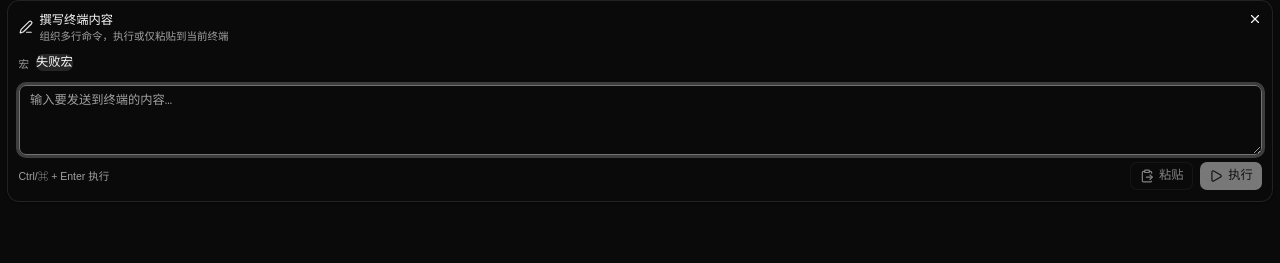
Test: TerminalComposePanel › reports macro execution failures without recording the command
Click the button with aria-label "执行宏 失败宏": x=54, y=62 [36, 54, 73, 71]
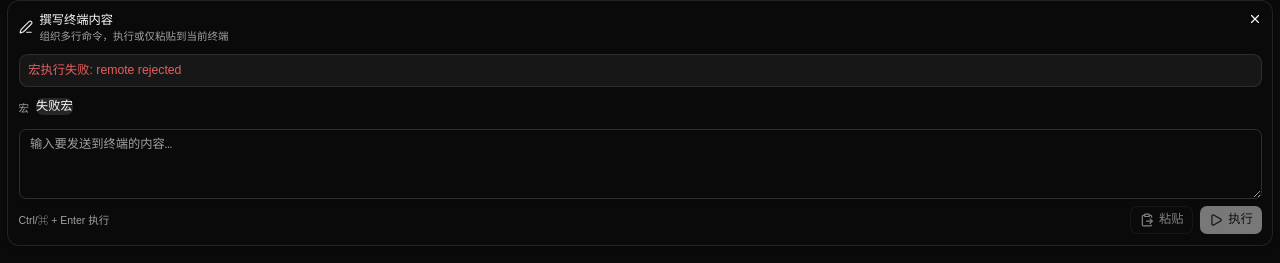
Expected: the text "宏执行失败: remote rejected" is shown, [28, 62, 182, 76]
